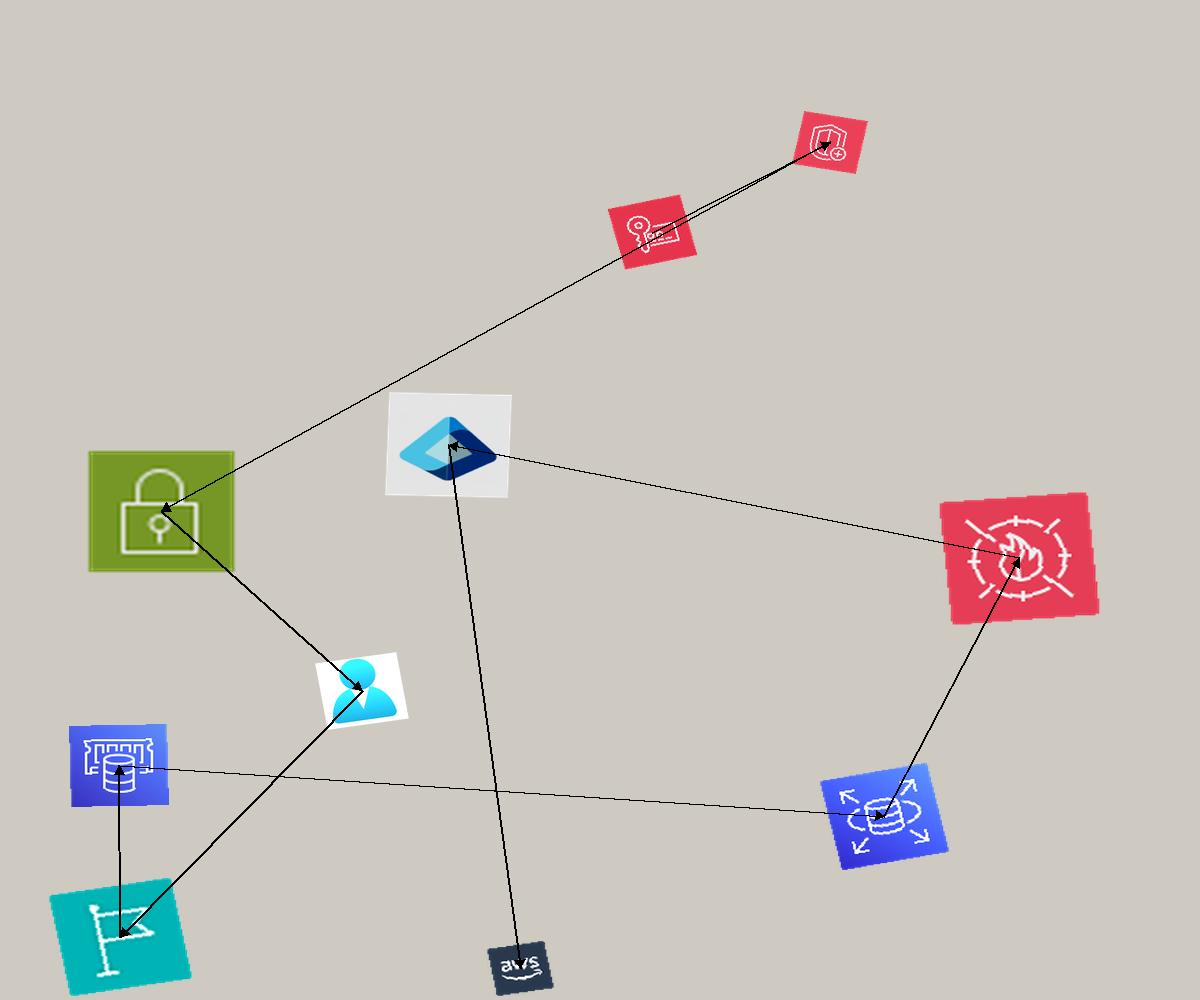AWS-Cloud-logo: (486, 940, 555, 997)
AWS-ElastiCache: (69, 724, 169, 807)
AWS-Key-Management-Service: (607, 194, 698, 270)
AWS-Public-subnet: (85, 448, 238, 575)
AWS-RDS: (819, 762, 950, 871)
AWS-Region: (48, 877, 193, 997)
AWS-Shield: (792, 111, 868, 174)
AWS-WAF: (938, 491, 1101, 626)
Azure_microsoft_entra: (385, 392, 512, 498)
Azure_users: (315, 652, 409, 730)
